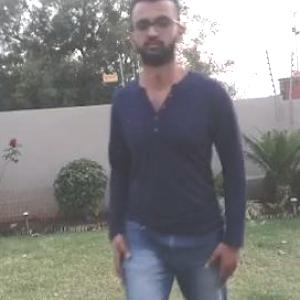follow: (110, 0, 233, 299)
